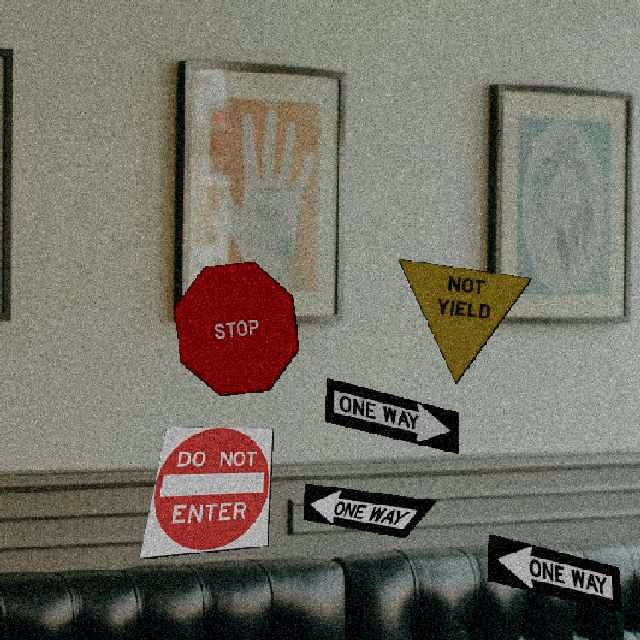DO_NOT_ENTER: (137, 424, 272, 558)
NOT_YIELD: (396, 257, 531, 383)
ONE_WAY_ left: (486, 532, 621, 612), (301, 482, 436, 537)
ONE_WAY_ right: (323, 376, 458, 453)
STOP: (172, 260, 298, 395)
